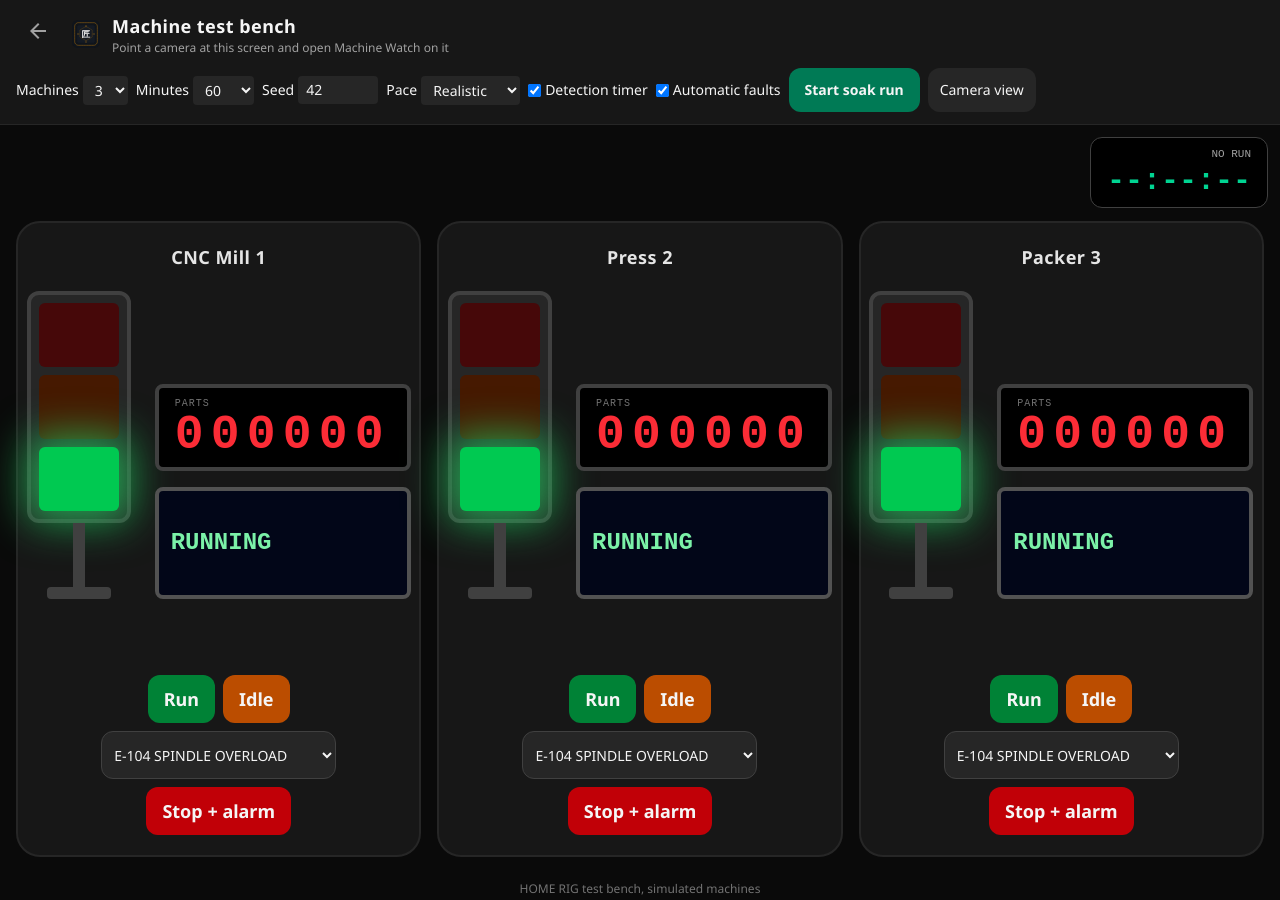
it: Machine test bench › logs an alarm and a state change when a machine is stopped by hand during a manual run
Click the checkbox labelled "Automatic faults". click: (662, 90)
box: left=656, top=84, right=669, bottom=96
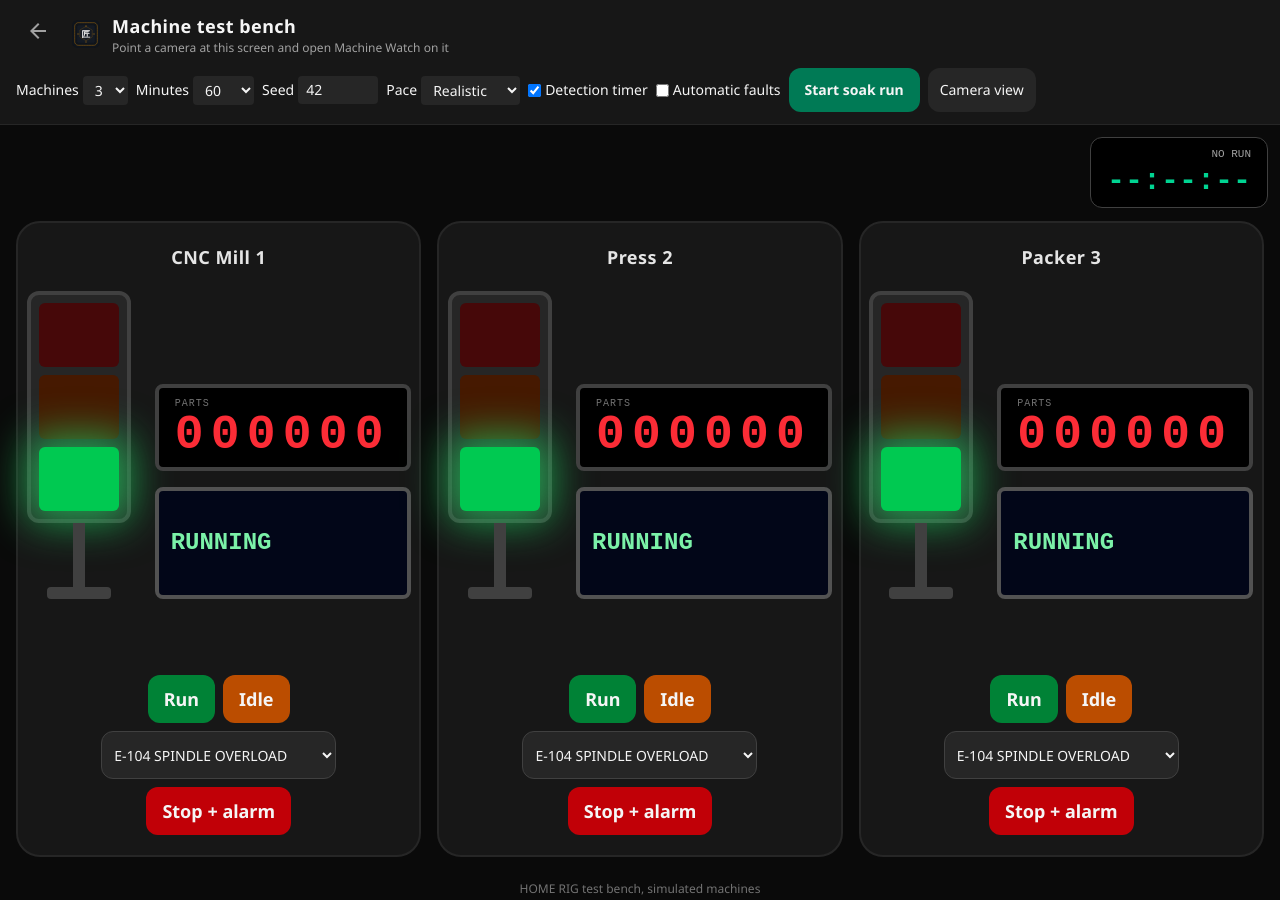
Click the button "Start soak run". click: (854, 90)
box: left=789, top=68, right=920, bottom=112
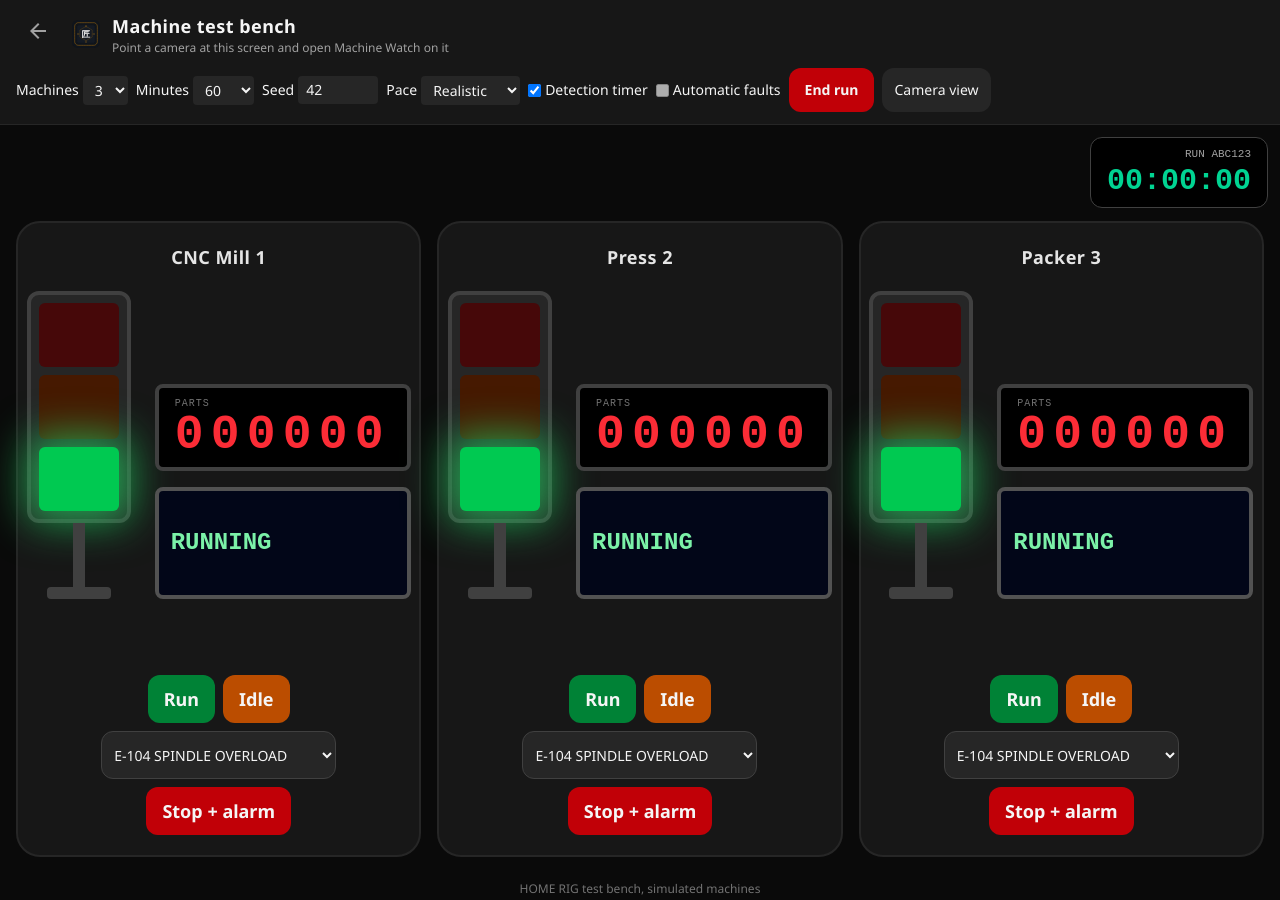
Click the 1st button "Stop + alarm". click: (219, 811)
box: left=146, top=787, right=291, bottom=835
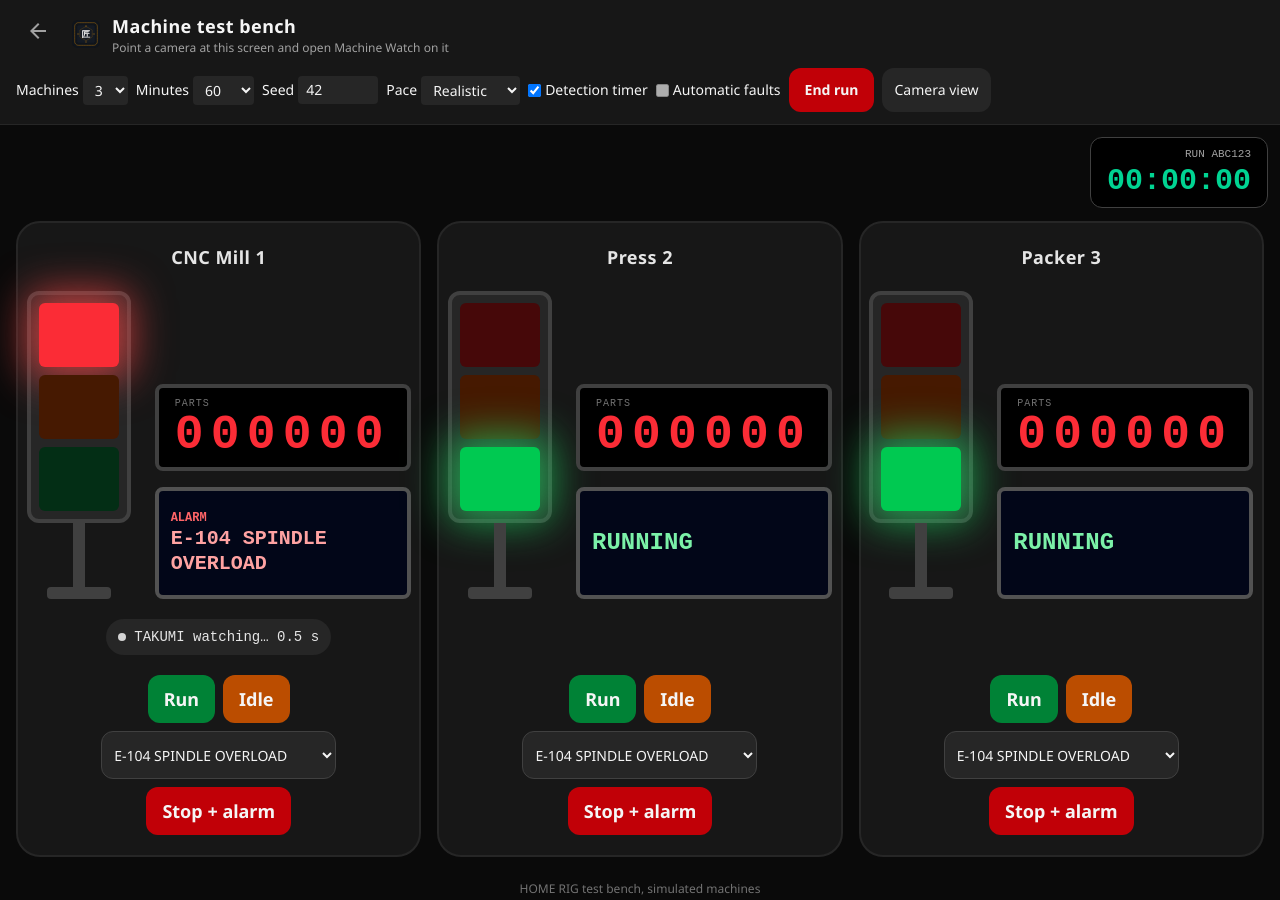
expect the element with test id "hmi-1" shows "E-104 SPINDLE OVERLOAD": met, box left=171, top=527, right=327, bottom=575
